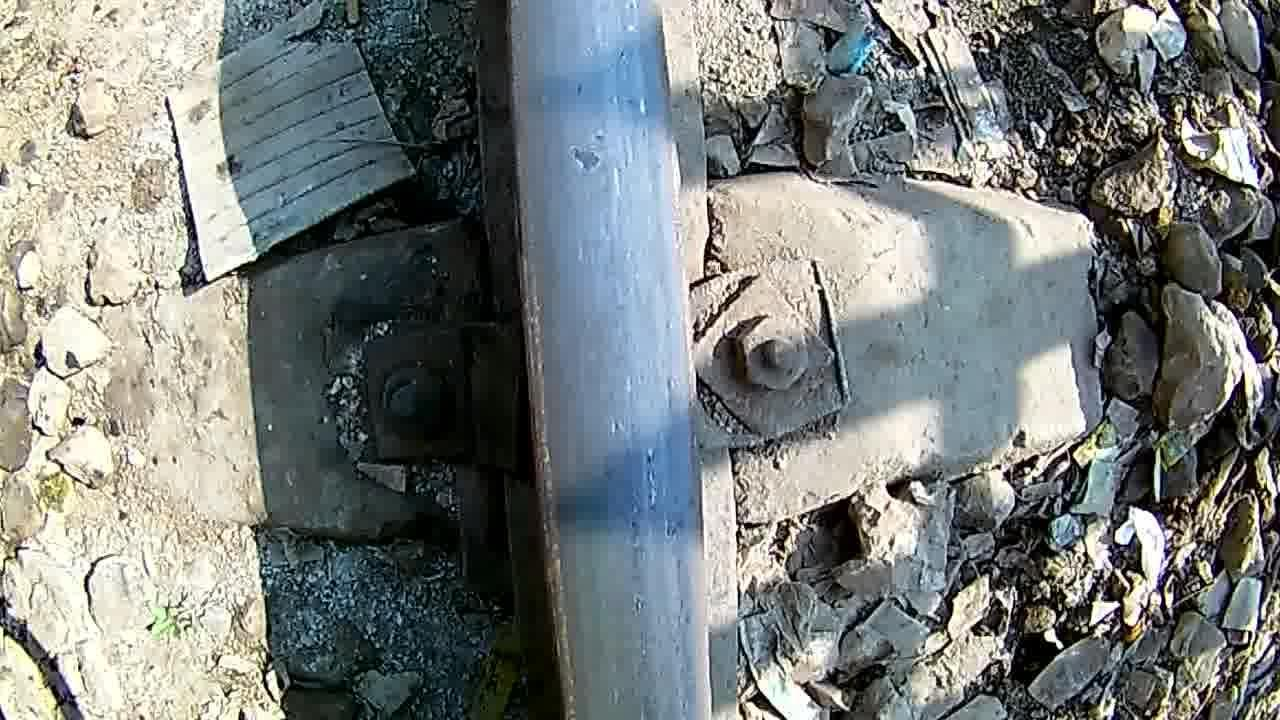crack: (541, 11, 675, 200)
